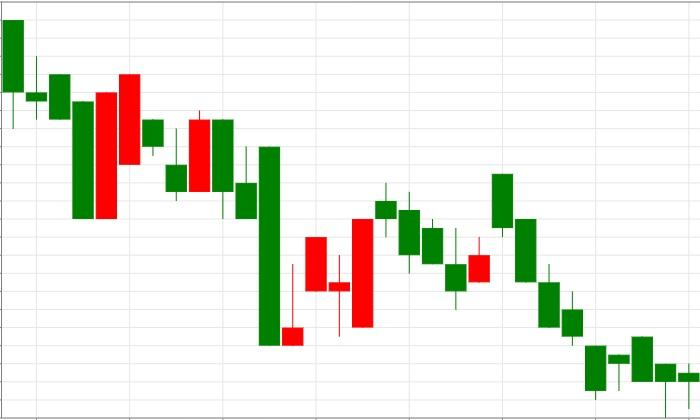bullish_engulfing_rise: (3, 20, 117, 220)
inverse_hammer_rise: (119, 73, 303, 346)
